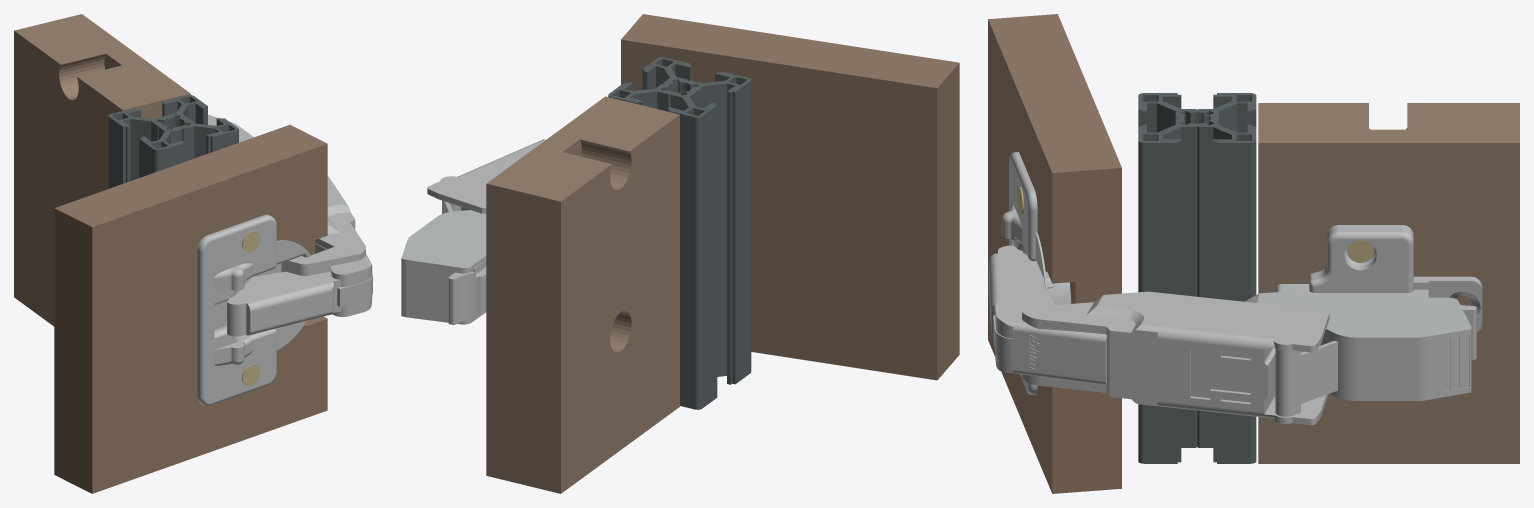
The model's file is hinge-170.glb.
3 views of the same model, side by side, from view 1: azimuth 30°, elevation 25°; view 2: azimuth 150°, elevation 25°; view 3: azimuth 270°, elevation 25° (orthographic). The views are drawn at different scales.
Visible parts, largest first — view 1: Left-door-face-18, Left-pegboard-18, Blum-1-71T6650-body-5, Post-4-23, Blum-1-71T6650-body-4, Blum-1-71T6650-body-2, Blum-1-71T6650-body-3; view 2: Left-door-face-18, Left-pegboard-18, Post-4-23, Blum-1-71T6650-body-0, Blum-1-71T6650-body-2, Blum-1-71T6650-body-6; view 3: Left-pegboard-18, Left-door-face-18, Post-4-23, Blum-1-71T6650-body-2, Blum-1-71T6650-body-0, Blum-1-175H7190, Blum-1-71T6650-body-3, Blum-1-71T6650-body-1, Blum-1-71T6650-body-5, Blum-1-71T6650-body-4.
Part boxes in pixels (x1,y1,x2,y2): Left-door-face-18: (54,124,327,493); Left-pegboard-18: (14,14,190,326); Blum-1-71T6650-body-5: (197,214,310,405); Post-4-23: (108,95,238,188); Blum-1-71T6650-body-4: (227,271,340,336); Blum-1-71T6650-body-2: (281,176,365,314); Blum-1-71T6650-body-3: (315,243,372,316); Left-door-face-18: (621,14,959,380); Left-pegboard-18: (486,96,679,493); Post-4-23: (608,57,751,409); Blum-1-71T6650-body-0: (401,210,486,324); Blum-1-71T6650-body-2: (427,139,545,213); Blum-1-71T6650-body-6: (448,260,486,324); Left-pegboard-18: (1258,103,1519,463); Left-door-face-18: (988,14,1121,493); Post-4-23: (1138,93,1256,463); Blum-1-71T6650-body-2: (1022,277,1329,425); Blum-1-71T6650-body-0: (1245,291,1471,400); Blum-1-175H7190: (1276,225,1482,332); Blum-1-71T6650-body-3: (993,300,1106,385); Blum-1-71T6650-body-1: (1275,340,1337,416); Blum-1-71T6650-body-5: (1001,152,1071,394); Blum-1-71T6650-body-4: (989,245,1043,339).
Bounding box in the file's own units: 0.127 × 0.09 × 0.1352.
